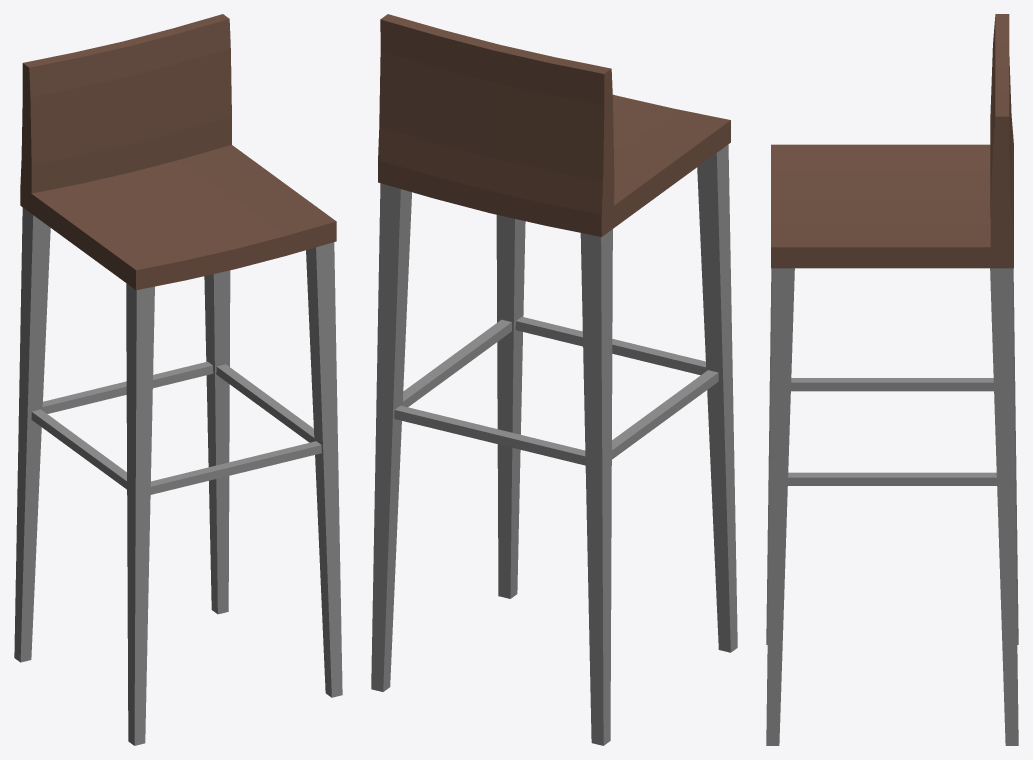
Rendered from SM_Props_BarProps_01.fbx.
The picture shows the model from 3 angles, left to right: view 1: azimuth 30°, elevation 25°; view 2: azimuth 150°, elevation 25°; view 3: azimuth 270°, elevation 25°; orthographic projection. The views are drawn at different scales.
Parts seen in each view (by area): view 1: SM_Props_BarProps_01; view 2: SM_Props_BarProps_01; view 3: SM_Props_BarProps_01.
Boxes of the visible parts, bbox=[...] form: SM_Props_BarProps_01: bbox=[14, 14, 342, 745]; SM_Props_BarProps_01: bbox=[371, 14, 737, 745]; SM_Props_BarProps_01: bbox=[766, 14, 1018, 745].
Size of the model in its own units: 0.4588 by 1.26 by 0.4588.
